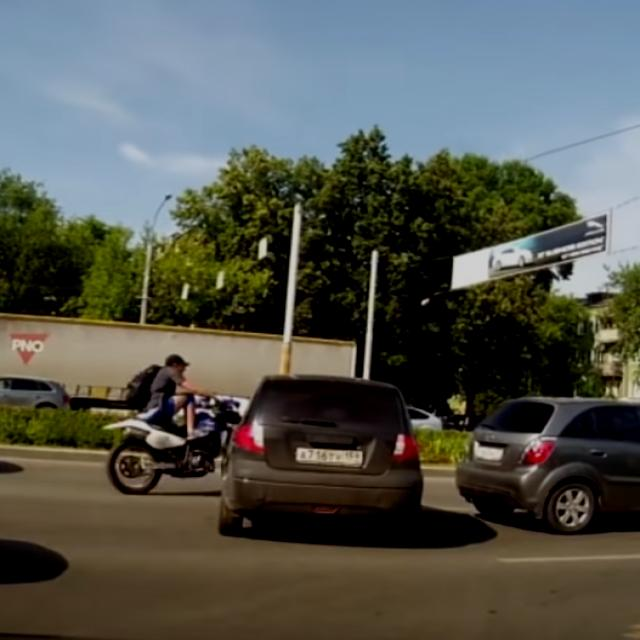accident: (100, 352, 428, 548)
